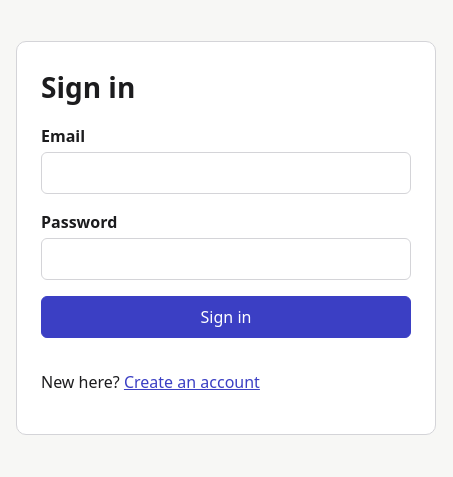
Scenario: spec 001 US2 - Sign in › given empty fields, when submitted, then inline errors show
What coordinates should you click on to do the following:
click the button "Sign in"
I would click on:
 (226, 317)
Its box is x1=41 y1=296 x2=411 y2=338.
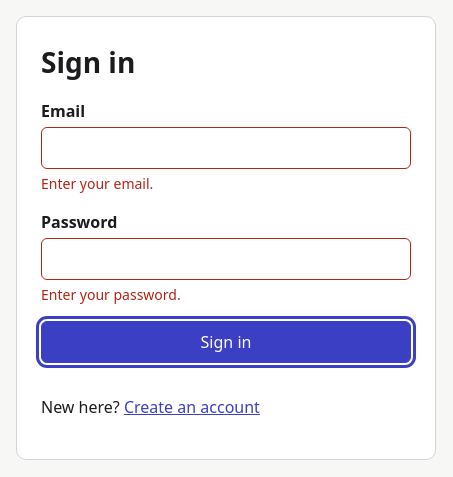
Now the text "Enter your email." is shown, box x1=41 y1=174 x2=153 y2=193
Now the text "Enter your password." is shown, box x1=41 y1=285 x2=181 y2=304
